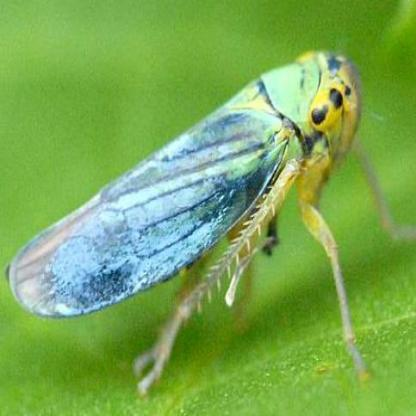Green-Leafhopper: (5, 45, 406, 367)
